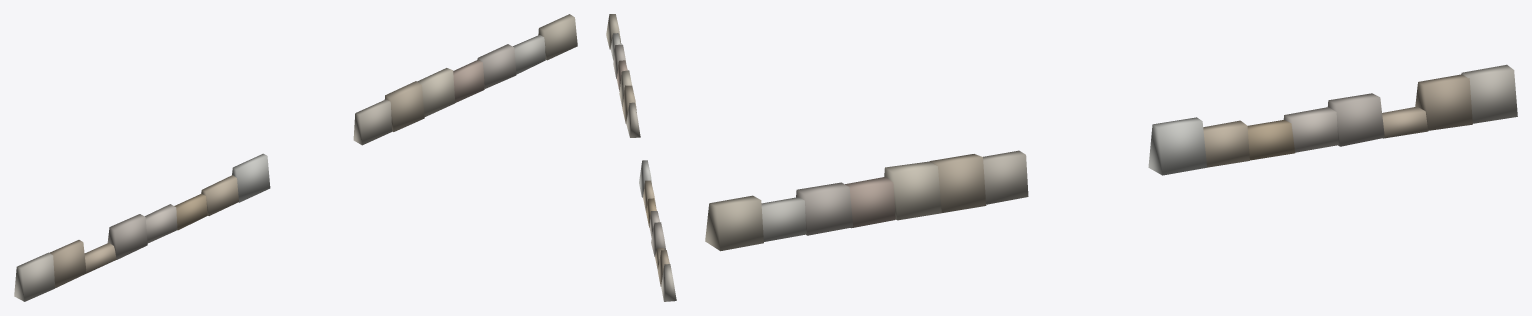
The model's file is farm_-18_-27_far.glb.
The picture shows the model from 3 angles, left to right: view 1: azimuth 90°, elevation 25°; view 2: azimuth 150°, elevation 25°; view 3: azimuth 270°, elevation 25°; orthographic projection. The views are drawn at different scales.
Parts seen in each view (by area): view 1: geometry_0; view 2: geometry_0; view 3: geometry_0.
Boxes of the visible parts, <box> form: geometry_0: <box>14,14,577,301</box>; geometry_0: <box>606,14,676,301</box>; geometry_0: <box>705,64,1517,251</box>.
Bounding box in the file's own units: 17.65 × 5.02 × 23.33.
